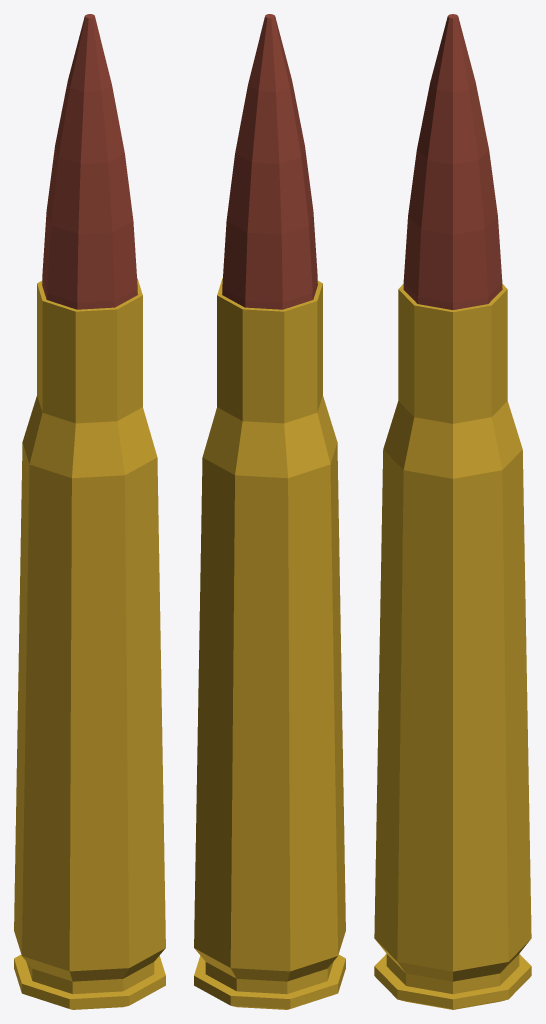
File: 50 BMG.glb
3 renders of one model, left to right at view 1: azimuth 30°, elevation 25°; view 2: azimuth 150°, elevation 25°; view 3: azimuth 270°, elevation 25°, orthographic.
Visible parts, largest first — view 1: 50 BMG; view 2: 50 BMG; view 3: 50 BMG.
Part boxes in pixels (x1,y1,x2,y2): 50 BMG: (14,14,165,1009); 50 BMG: (194,14,345,1009); 50 BMG: (374,14,531,1009).
Size of the model in its own units: 0.0204 by 0.1384 by 0.0204.
1 material, 1 textured.
